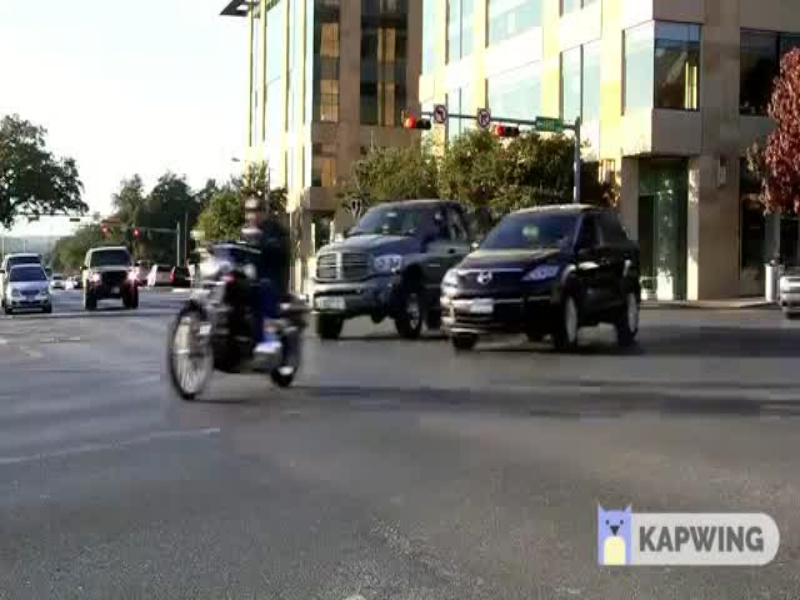car: (437, 197, 662, 366), (67, 242, 145, 317), (2, 255, 63, 315)
motorcycle: (149, 198, 313, 411)
